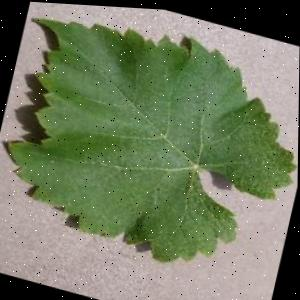Folha: (0, 0, 300, 288)
